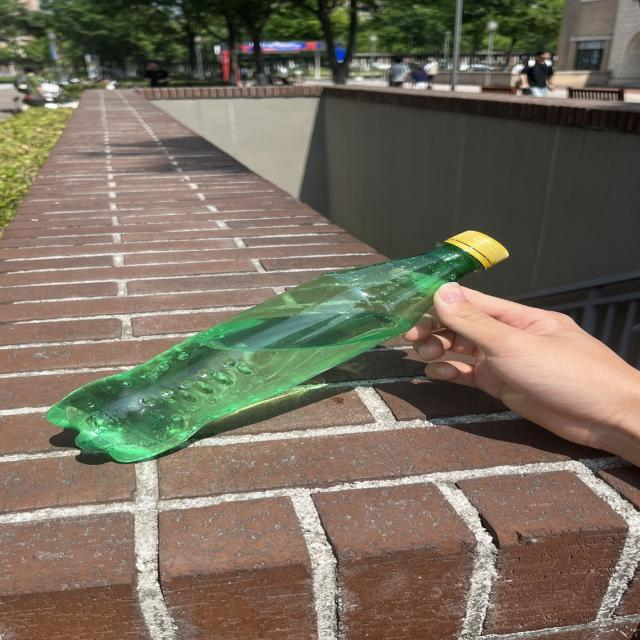medium: (47, 232, 507, 462)
